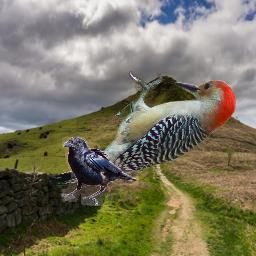Crow: (61, 137, 139, 206)
Woodpecker: (49, 71, 239, 190)
